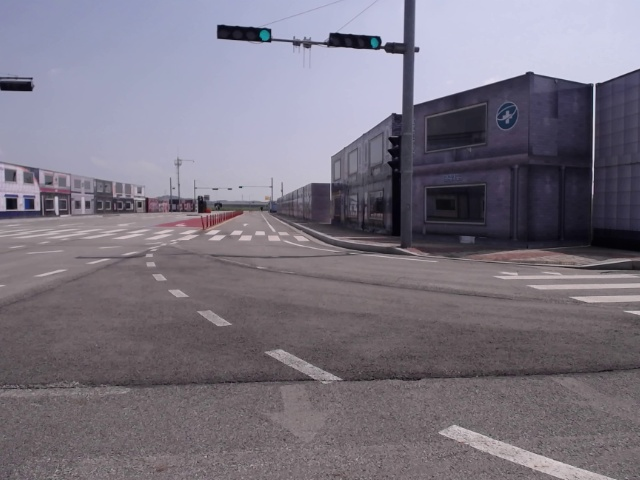straight_green_4: (218, 25, 270, 44), (329, 33, 380, 49)
